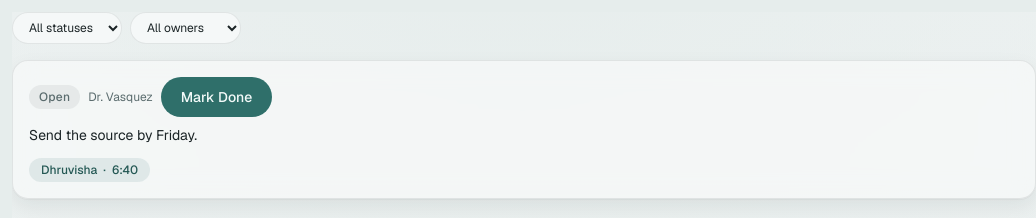
Test: MeetingTimeline › shows a filters-specific empty state when a filter excludes every entry
The image size is (1036, 218).
Expected: the text "Send the source by Friday." is shown, [29, 126, 197, 144]
Select "Done" in the dropdown named "Filter action items by status" at (67, 28), box [12, 12, 122, 44]
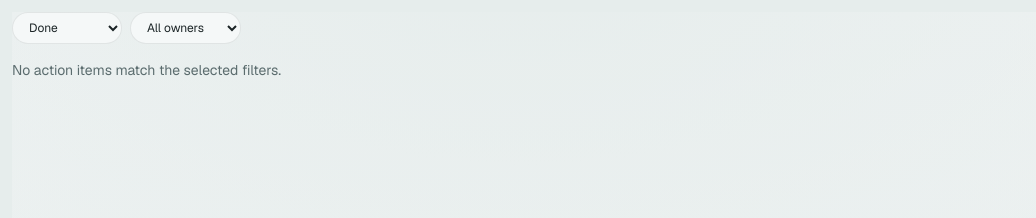
Expected: the text "No action items match the selected filters." is shown, [12, 61, 281, 79]
